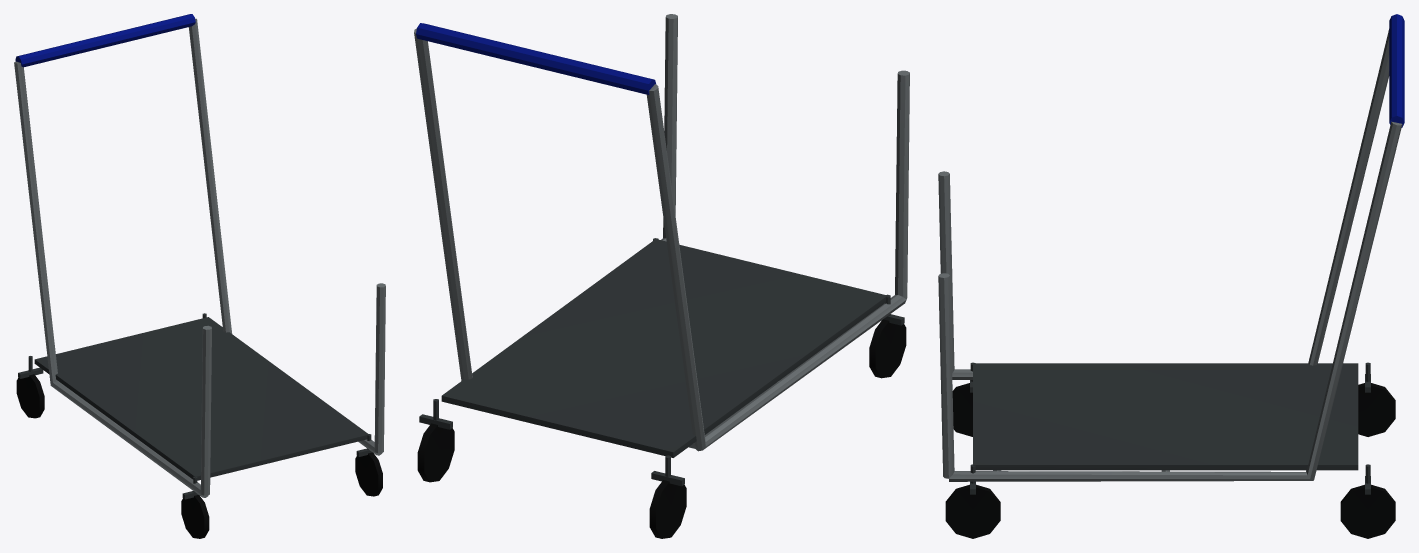
File: ap-luggage-trolley.glb
3 renders of one model, left to right at view 1: azimuth 30°, elevation 25°; view 2: azimuth 150°, elevation 25°; view 3: azimuth 270°, elevation 25°, orthographic. The views are drawn at different scales.
Parts seen in each view (by area): view 1: frame__chrome, handle__plastic; view 2: frame__chrome, handle__plastic; view 3: frame__chrome, handle__plastic.
Part boxes in pixels (left/top/right/bottom): frame__chrome: left=14, top=18, right=385, bottom=538; handle__plastic: left=15, top=14, right=195, bottom=67; frame__chrome: left=414, top=14, right=909, bottom=538; handle__plastic: left=416, top=23, right=656, bottom=94; frame__chrome: left=938, top=29, right=1402, bottom=538; handle__plastic: left=1389, top=14, right=1404, bottom=127.
Size of the model in its own units: 0.566 by 0.966 by 0.968.
